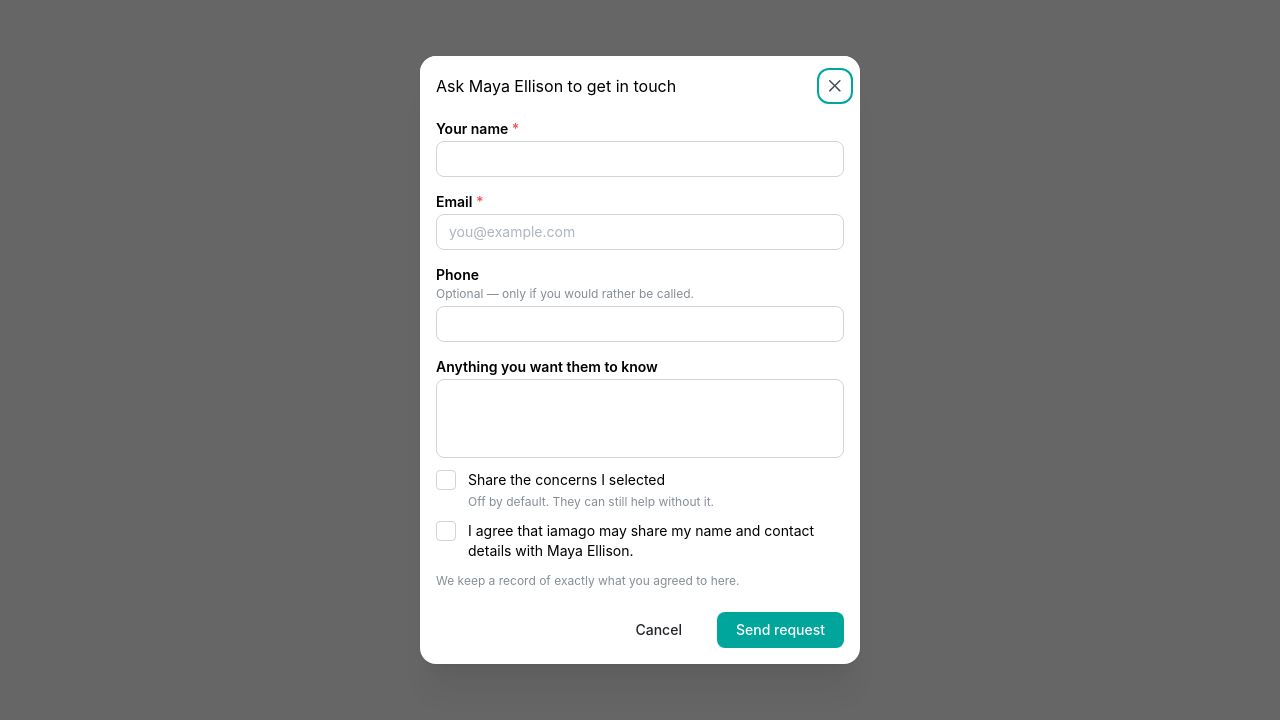
<ContactRequestModal /> › surfaces a refusal from the server
Type "Ada Lovelace" into the field labelled "Your name *" at (640, 159), box [436,141,844,177]
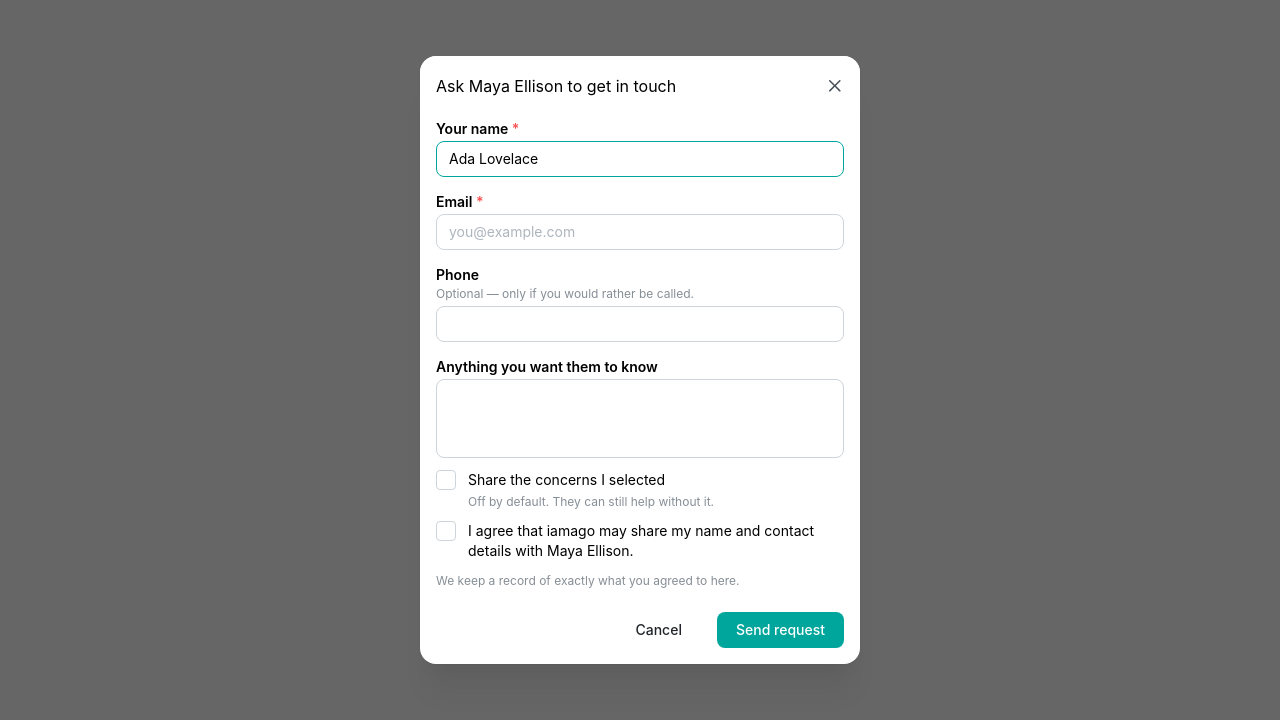
Type "ada@example.com" into the field labelled "Email *" at (640, 232), box [436,214,844,250]
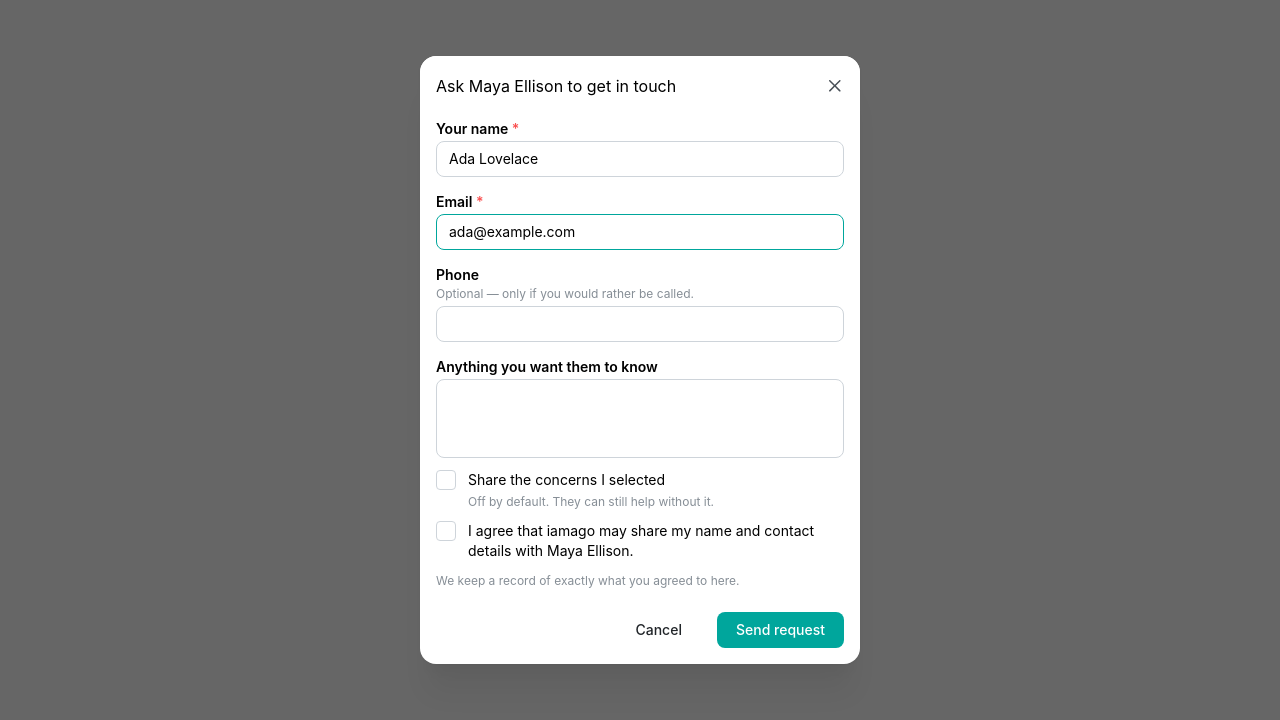
Click the checkbox labelled "I agree that iamago may share" at (446, 531), box [436,521,456,541]
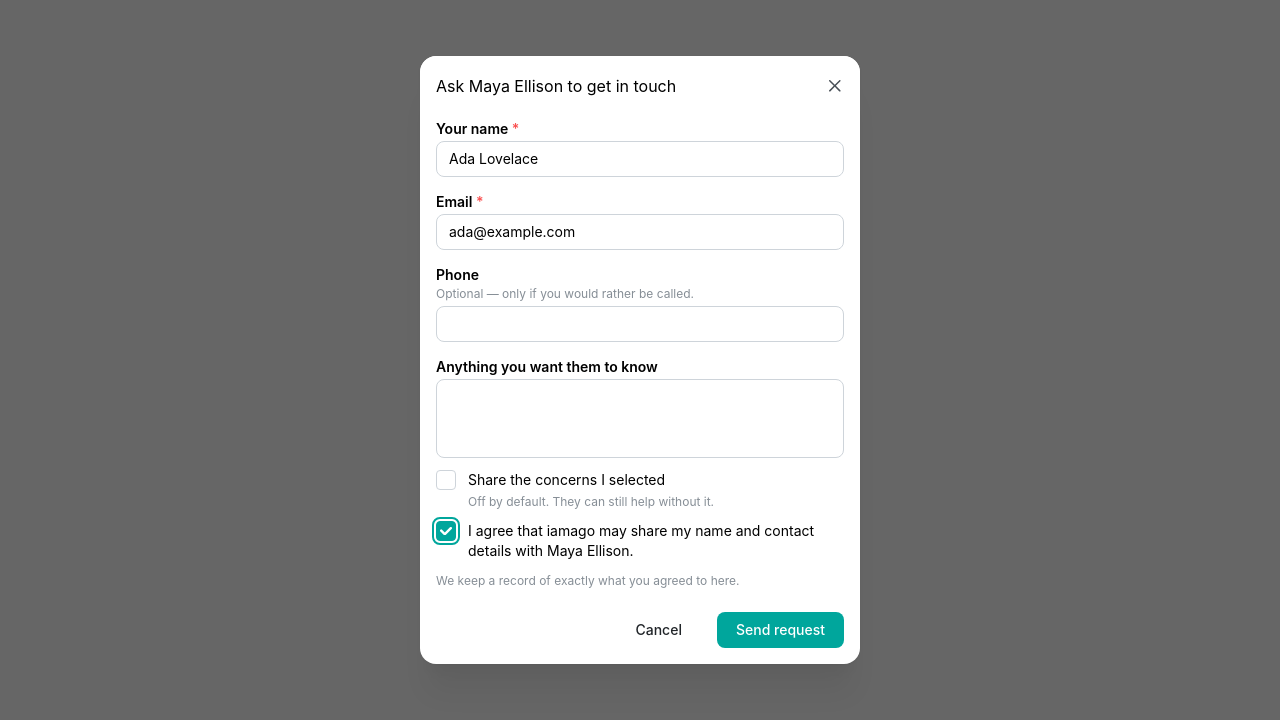
Click the button "Send request" at (780, 630), box [717,612,844,648]
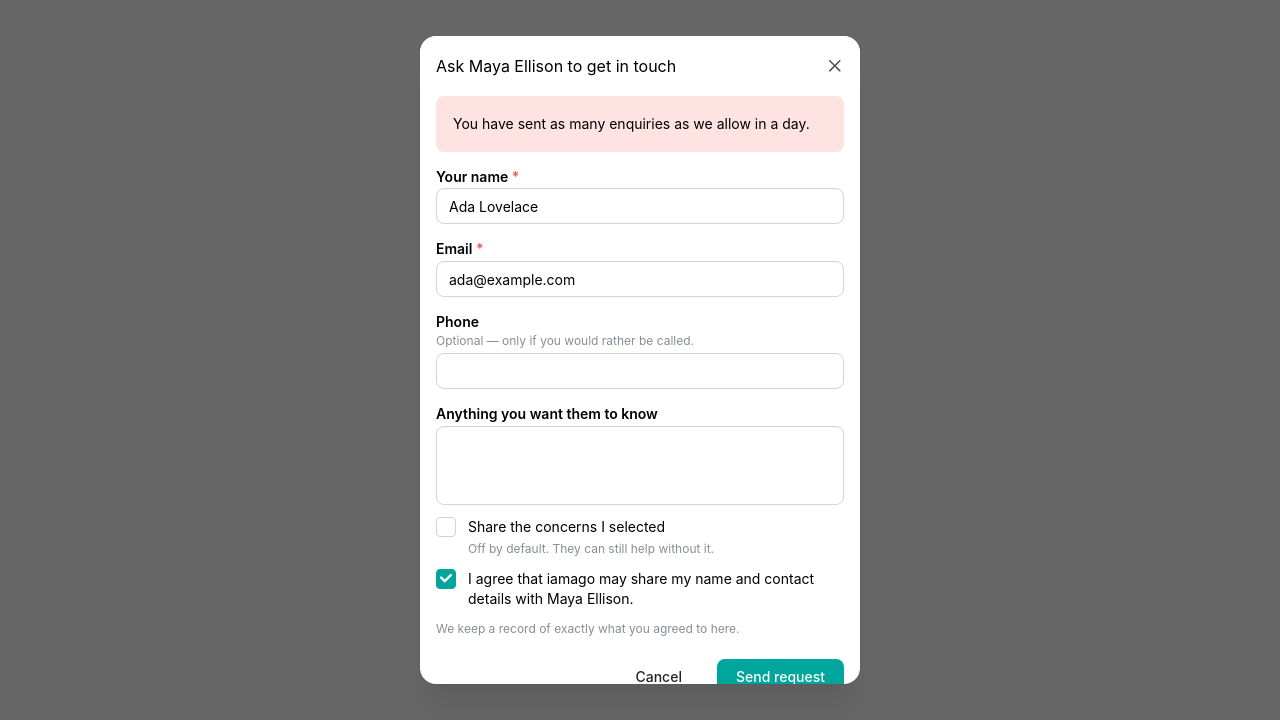
Expected: the text "You have sent as many enquiries as we allow in a day." is shown, [453,113,827,135]
